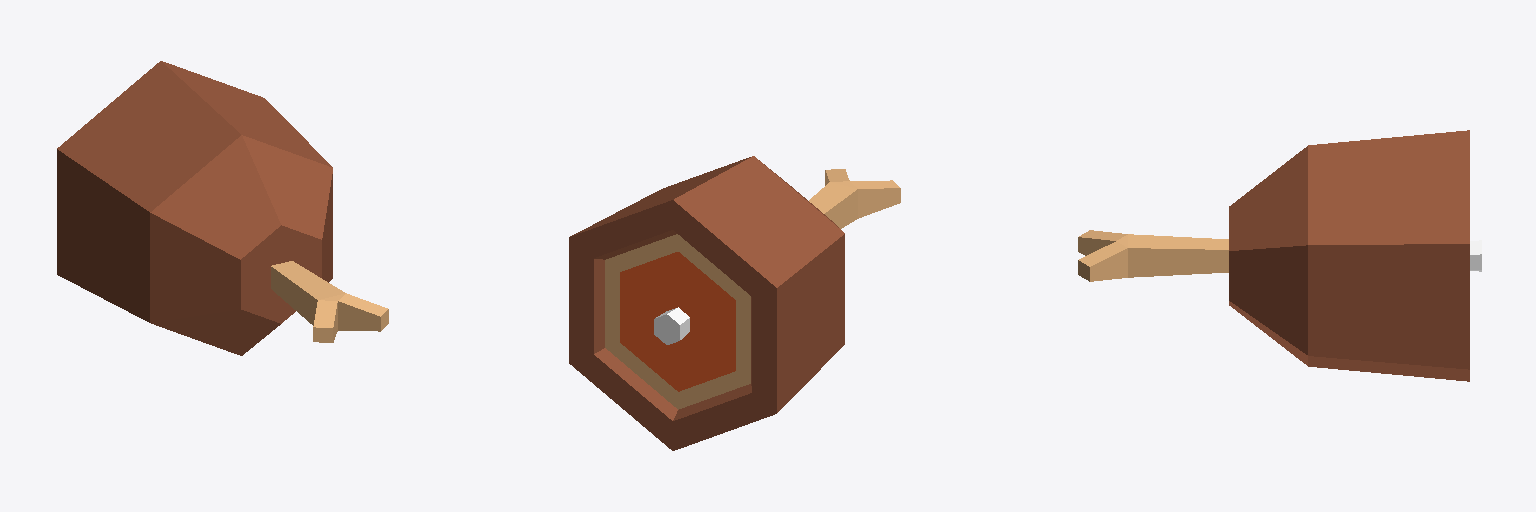
Rendered from wholeHam.obj.
The picture shows the model from 3 angles: view 1: azimuth 30°, elevation 25°; view 2: azimuth 150°, elevation 25°; view 3: azimuth 270°, elevation 25°; orthographic projection.
Parts seen in each view (by area): view 1: wholeHam; view 2: wholeHam; view 3: wholeHam.
Boxes of the visible parts, x1,y1,x2,y2 form: wholeHam: [57, 61, 388, 355]; wholeHam: [569, 156, 900, 450]; wholeHam: [1078, 130, 1481, 381].
Size of the model in its own units: 0.3809 by 0.4399 by 0.6397.